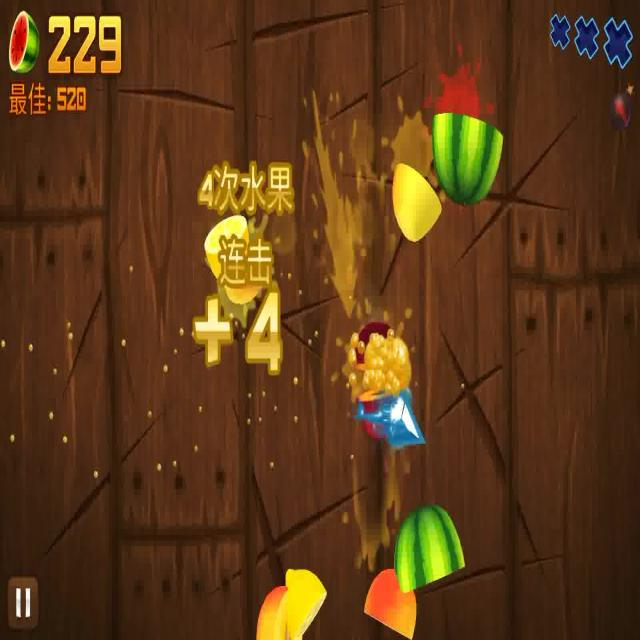fruit: (347, 311, 418, 448), (429, 100, 507, 207), (392, 507, 476, 591), (239, 548, 308, 640), (393, 154, 445, 246), (364, 571, 432, 636)
